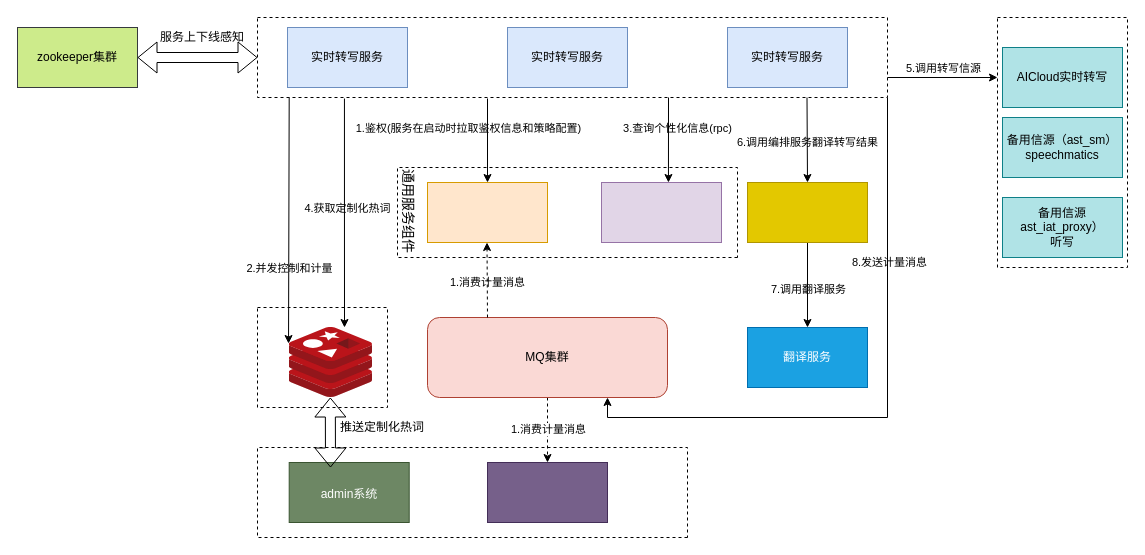
This 1145x555 diagram has some shape labels left out. The box of each missing label's shape, as (x1, y1, x2, y2) in pixels:
存储层: (256, 306, 388, 408)
数据统计服务: (486, 462, 608, 522)
用户资源管理服务: (600, 182, 722, 242)
编排调度服务(proxy): (746, 182, 868, 242)
转写信源: (996, 16, 1128, 268)
鉴权服务: (426, 182, 548, 242)
